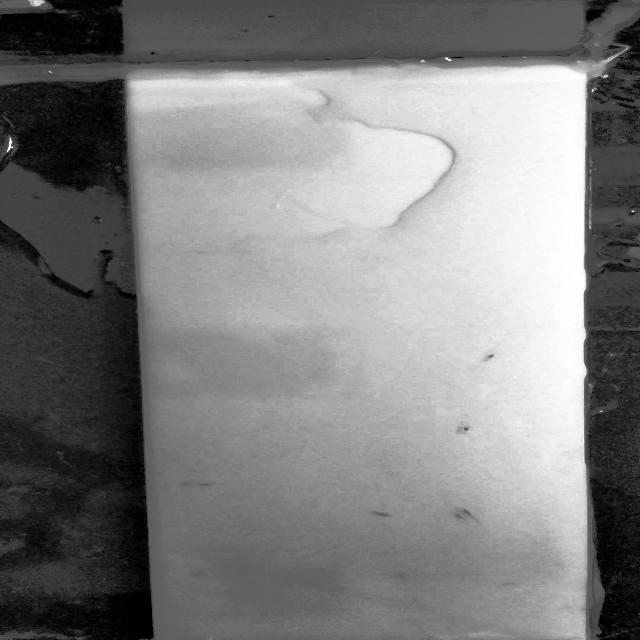shrimp: (190, 480, 226, 491), (364, 507, 394, 520), (476, 349, 500, 363), (448, 424, 476, 436), (186, 568, 211, 580), (449, 512, 465, 523), (462, 508, 479, 516)
